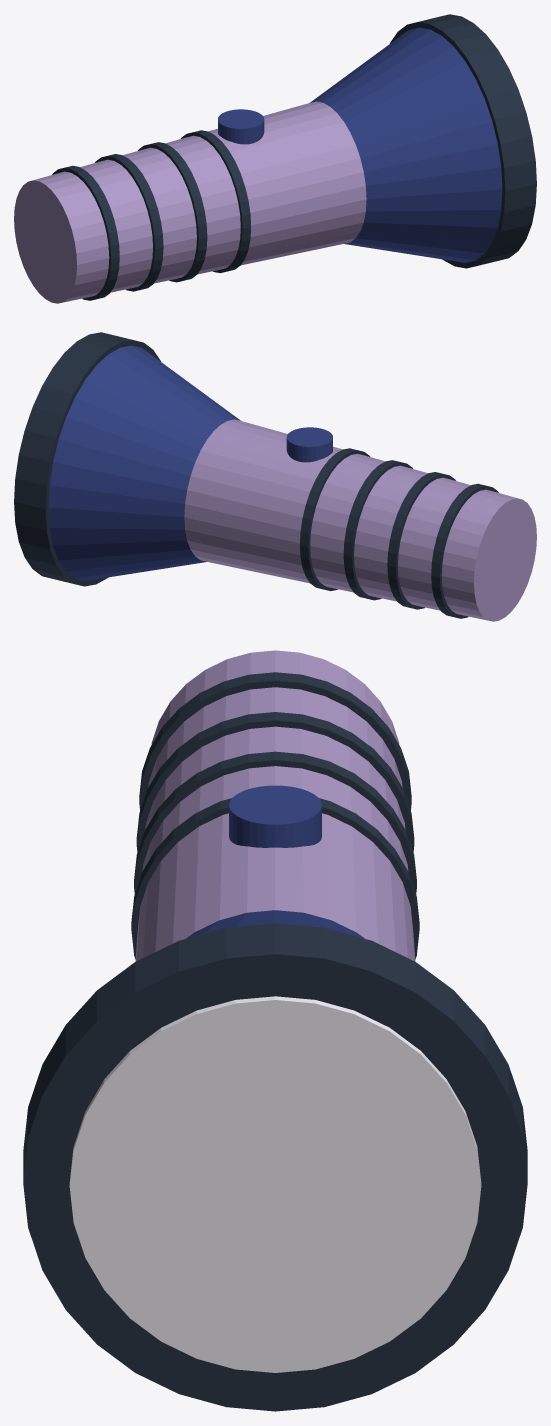
Rendered from flashlight.glb.
3 views of the same model, one above another, from view 1: azimuth 30°, elevation 25°; view 2: azimuth 150°, elevation 25°; view 3: azimuth 270°, elevation 25° (orthographic). The views are drawn at different scales.
Visible parts, largest first — view 1: grip, head, bezel, grip ring 3, grip ring 2, grip ring 1, grip ring 0, switch; view 2: grip, head, bezel, grip ring 3, grip ring 2, grip ring 1, grip ring 0, switch; view 3: lens, bezel, grip, switch, grip ring 0, grip ring 1, grip ring 2, grip ring 3, head.
Boxes of the visible parts, x1,y1,x2,y2 form: grip: (14, 101, 366, 303); head: (310, 27, 502, 262); bezel: (389, 14, 536, 268); grip ring 3: (180, 130, 250, 273); grip ring 2: (138, 142, 207, 282); grip ring 1: (95, 154, 163, 291); grip ring 0: (52, 165, 119, 300); switch: (218, 109, 264, 144); grip: (184, 419, 536, 621); head: (48, 345, 240, 580); bezel: (14, 332, 161, 586); grip ring 3: (300, 448, 370, 591); grip ring 2: (343, 460, 412, 600); grip ring 1: (387, 472, 455, 609); grip ring 0: (431, 483, 498, 618); switch: (286, 427, 332, 462); lens: (69, 996, 481, 1372); bezel: (23, 923, 527, 1411); grip: (135, 650, 415, 961); switch: (229, 785, 321, 847); grip ring 0: (139, 672, 411, 810); grip ring 1: (136, 712, 414, 852); grip ring 2: (134, 751, 416, 894); grip ring 3: (131, 798, 419, 959); head: (186, 910, 364, 938).
Bounding box in the file's own units: 1.5 × 0.76 × 0.76.
